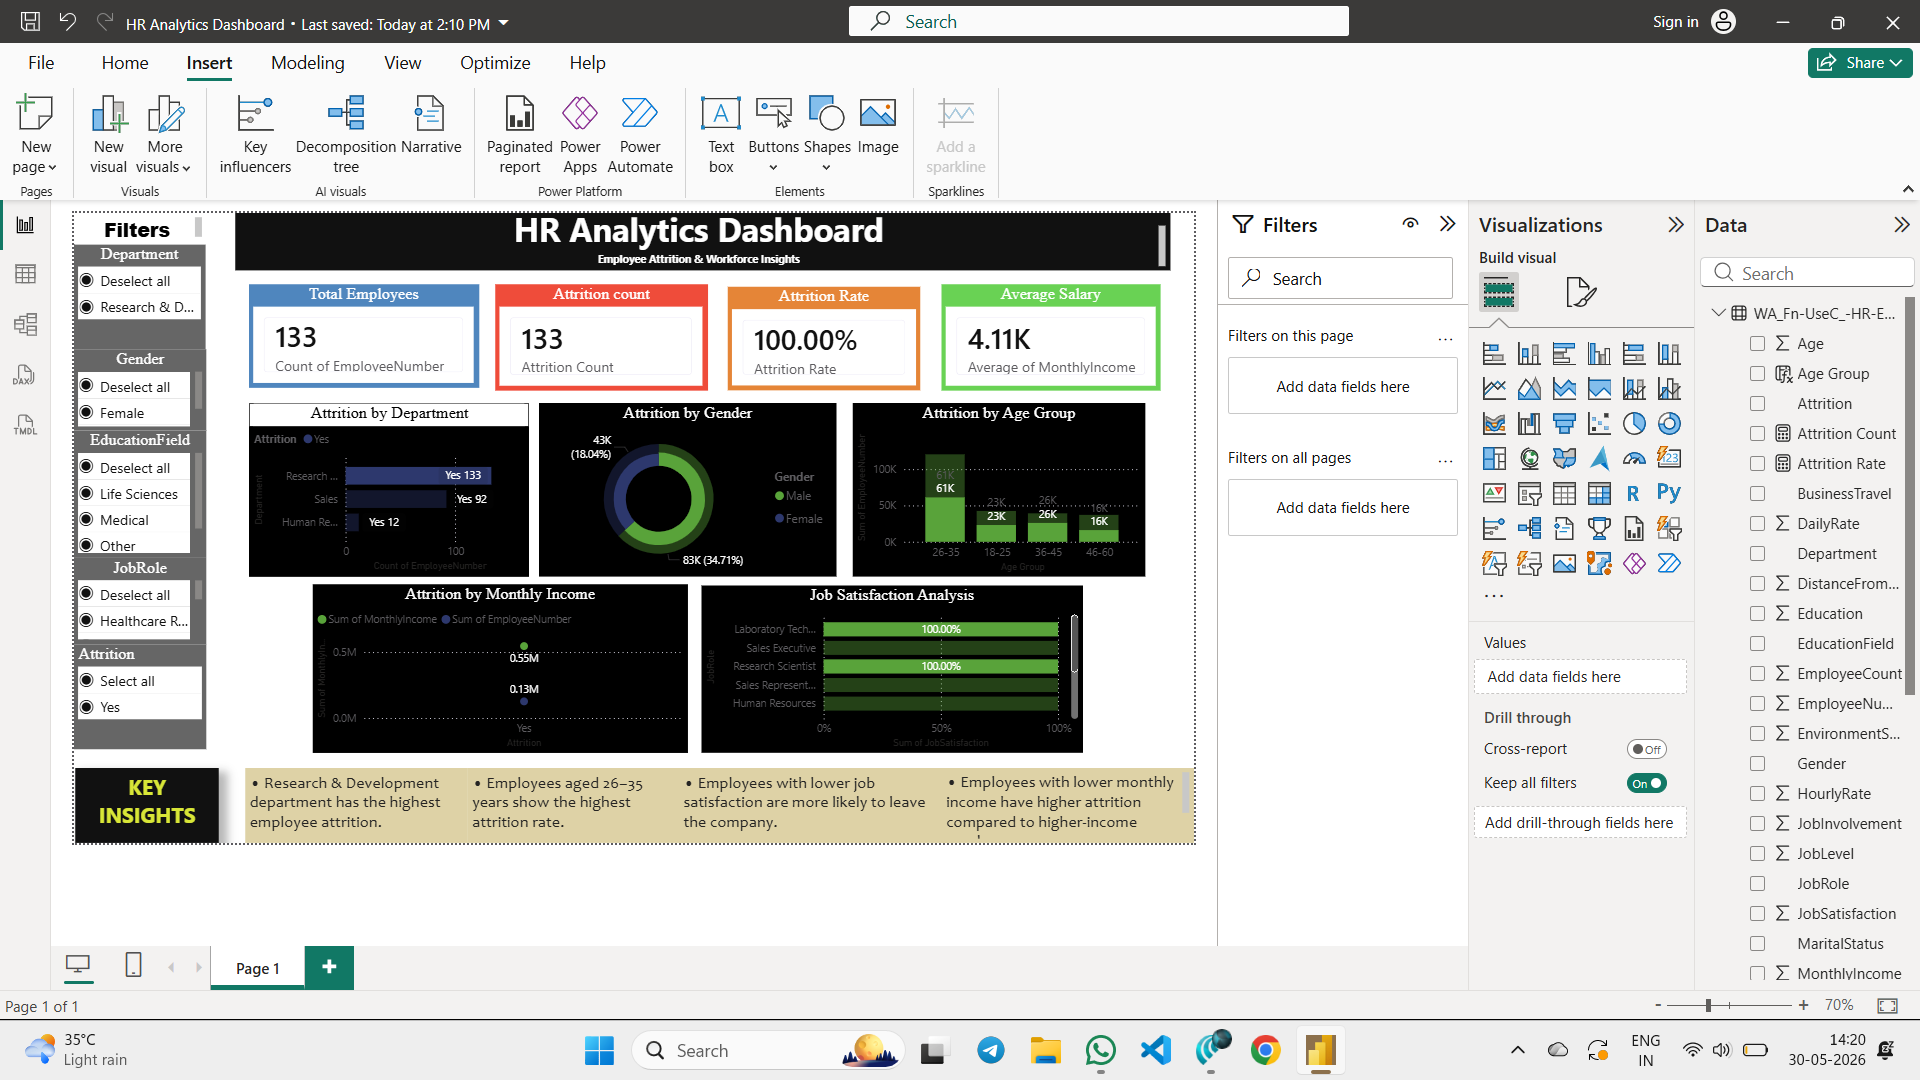

What the dashboard file says about the page in this screenshot:
{"tool":"powerbi","page":{"name":"Page 1","canvas":[1280,720],"ordinal":0},"visuals":[{"type":"cardVisual","title":"Total Employees","fields":{"Data":["CountNonNull(WA_Fn-UseC_-HR-Employee-Attrition.EmployeeNumber)"]},"box":[200,81.4,262.9,118.6],"z":0},{"type":"cardVisual","title":"Attrition count ","fields":{"Data":["WA_Fn-UseC_-HR-Employee-Attrition.Attrition Count"]},"box":[481.4,81.4,242.9,121.4],"z":1000},{"type":"cardVisual","title":"Attrition Rate","fields":{"Data":["WA_Fn-UseC_-HR-Employee-Attrition.Attrition Rate"]},"box":[747.1,84.3,220,118.6],"z":2000},{"type":"cardVisual","title":"Average Salary","fields":{"Data":["Avg(WA_Fn-UseC_-HR-Employee-Attrition.MonthlyIncome)"]},"box":[991.4,81.4,250,121.4],"z":3000},{"type":"clusteredBarChart","title":"Attrition by Department","fields":{"Category":["WA_Fn-UseC_-HR-Employee-Attrition.Department"],"Y":["CountNonNull(WA_Fn-UseC_-HR-Employee-Attrition.EmployeeNumber)"],"Series":["WA_Fn-UseC_-HR-Employee-Attrition.Attrition"]},"box":[200,217.1,320,198.6],"z":4000},{"type":"donutChart","title":"Attrition by Gender","fields":{"Category":["WA_Fn-UseC_-HR-Employee-Attrition.Gender"],"Y":["Sum(WA_Fn-UseC_-HR-Employee-Attrition.EmployeeNumber)"],"Series":["WA_Fn-UseC_-HR-Employee-Attrition.Attrition"]},"box":[531.4,217.1,340,198.6],"z":5000},{"type":"columnChart","title":"Attrition by Age Group","fields":{"Category":["WA_Fn-UseC_-HR-Employee-Attrition.Age Group"],"Y":["Sum(WA_Fn-UseC_-HR-Employee-Attrition.EmployeeNumber)"]},"box":[890,217.1,334.3,198.6],"z":6000},{"type":"lineChart","title":"Attrition by Monthly Income","fields":{"Y":["Sum(WA_Fn-UseC_-HR-Employee-Attrition.MonthlyIncome)","Sum(WA_Fn-UseC_-HR-Employee-Attrition.EmployeeNumber)"],"Category":["WA_Fn-UseC_-HR-Employee-Attrition.Attrition"]},"box":[272.9,424.3,428.6,192.9],"z":7000},{"type":"hundredPercentStackedBarChart","title":"Job Satisfaction Analysis","fields":{"Category":["WA_Fn-UseC_-HR-Employee-Attrition.JobRole"],"Y":["Sum(WA_Fn-UseC_-HR-Employee-Attrition.JobSatisfaction)"]},"box":[717.1,425.7,435.7,191.4],"z":7001},{"type":"listSlicer","fields":{"Values":["WA_Fn-UseC_-HR-Employee-Attrition.Department"]},"box":[1.4,35.7,150,141.4],"z":7002},{"type":"listSlicer","fields":{"Values":["WA_Fn-UseC_-HR-Employee-Attrition.Gender"]},"box":[0,177.1,151.4,92.9],"z":7003},{"type":"listSlicer","fields":{"Values":["WA_Fn-UseC_-HR-Employee-Attrition.EducationField"]},"box":[0,270,151.4,145.7],"z":7004},{"type":"listSlicer","fields":{"Values":["WA_Fn-UseC_-HR-Employee-Attrition.JobRole"]},"box":[0,415.7,151.4,98.6],"z":7005},{"type":"listSlicer","fields":{"Values":["WA_Fn-UseC_-HR-Employee-Attrition.Attrition"]},"box":[0,514.3,151.4,120],"z":7006},{"type":"textbox","box":[1.4,0,150,35.7],"z":7007},{"type":"textbox","box":[1.4,650,164.3,70],"z":7008},{"type":"textbox","box":[195.7,634.3,254.3,85.7],"z":7009},{"type":"textbox","box":[450,634.3,251.4,85.7],"z":7010},{"type":"textbox","box":[691.4,634.3,311.4,85.7],"z":7011},{"type":"textbox","box":[991.4,634.3,288.6,85.7],"z":7012},{"type":"textbox","box":[184.3,0,1068.6,65.7],"z":7013}]}

Visuals, with their boxes on the page's 1280x720 design canvas (x1, y1, x2, y2). These are canvas units, not pixel positions in the 1920x1080 screenshot, which may show the page scaled, cropped or inside an application window:
"Total Employees" cardVisual: select_region(200, 81, 463, 200)
"Attrition count " cardVisual: select_region(481, 81, 724, 203)
"Attrition Rate" cardVisual: select_region(747, 84, 967, 203)
"Average Salary" cardVisual: select_region(991, 81, 1241, 203)
"Attrition by Department" clusteredBarChart: select_region(200, 217, 520, 416)
"Attrition by Gender" donutChart: select_region(531, 217, 871, 416)
"Attrition by Age Group" columnChart: select_region(890, 217, 1224, 416)
"Attrition by Monthly Income" lineChart: select_region(273, 424, 702, 617)
"Job Satisfaction Analysis" hundredPercentStackedBarChart: select_region(717, 426, 1153, 617)
listSlicer - WA_Fn-UseC_-HR-Employee-Attrition.Department: select_region(1, 36, 151, 177)
listSlicer - WA_Fn-UseC_-HR-Employee-Attrition.Gender: select_region(0, 177, 151, 270)
listSlicer - WA_Fn-UseC_-HR-Employee-Attrition.EducationField: select_region(0, 270, 151, 416)
listSlicer - WA_Fn-UseC_-HR-Employee-Attrition.JobRole: select_region(0, 416, 151, 514)
listSlicer - WA_Fn-UseC_-HR-Employee-Attrition.Attrition: select_region(0, 514, 151, 634)
textbox: select_region(1, 0, 151, 36)
textbox: select_region(1, 650, 166, 720)
textbox: select_region(196, 634, 450, 720)
textbox: select_region(450, 634, 701, 720)
textbox: select_region(691, 634, 1003, 720)
textbox: select_region(991, 634, 1280, 720)
textbox: select_region(184, 0, 1253, 66)
